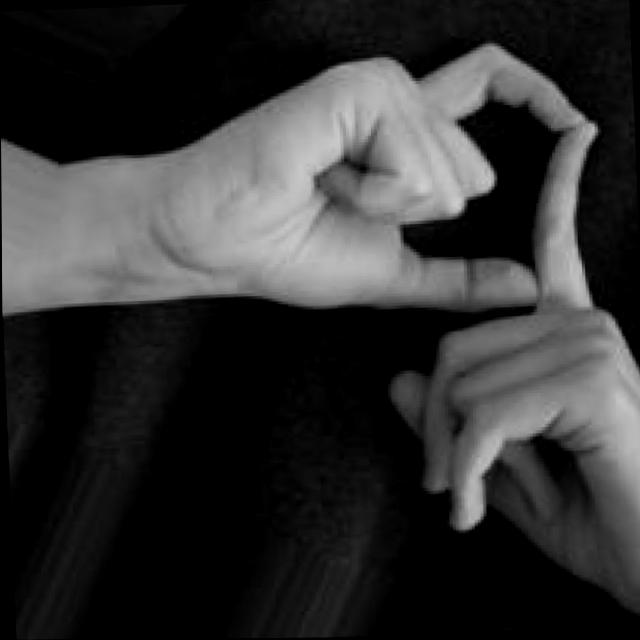D: (208, 37, 640, 638)
